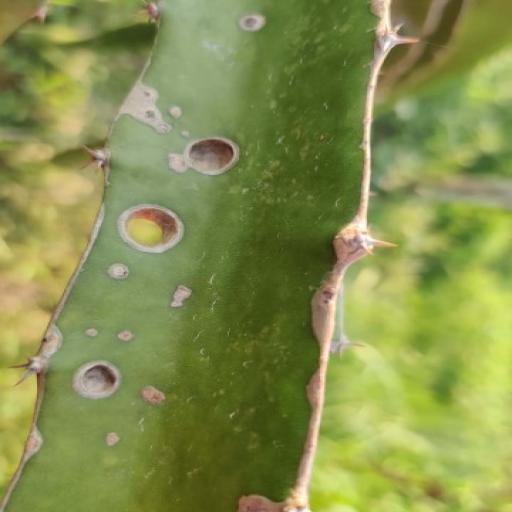stemcanker: (101, 248, 139, 295), (158, 276, 201, 317), (229, 7, 272, 37), (109, 323, 145, 358), (158, 96, 198, 127), (137, 381, 177, 410), (76, 315, 107, 350), (28, 424, 49, 462), (172, 124, 206, 146), (95, 430, 123, 447)
